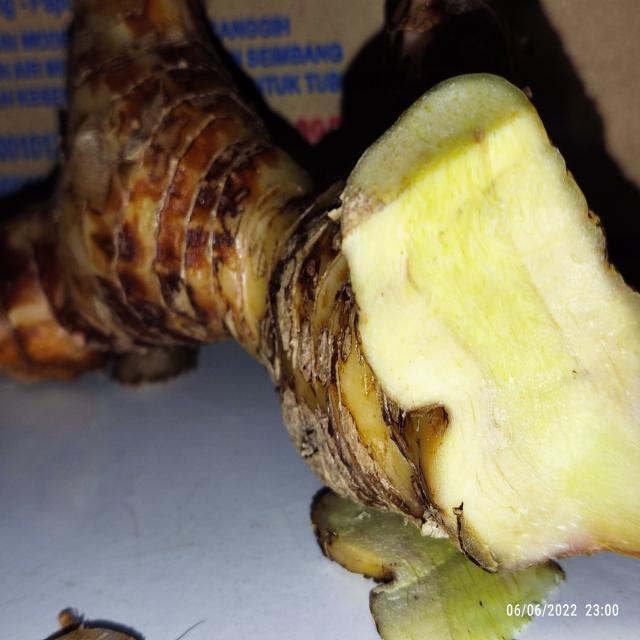ginger: (33, 15, 640, 514)
